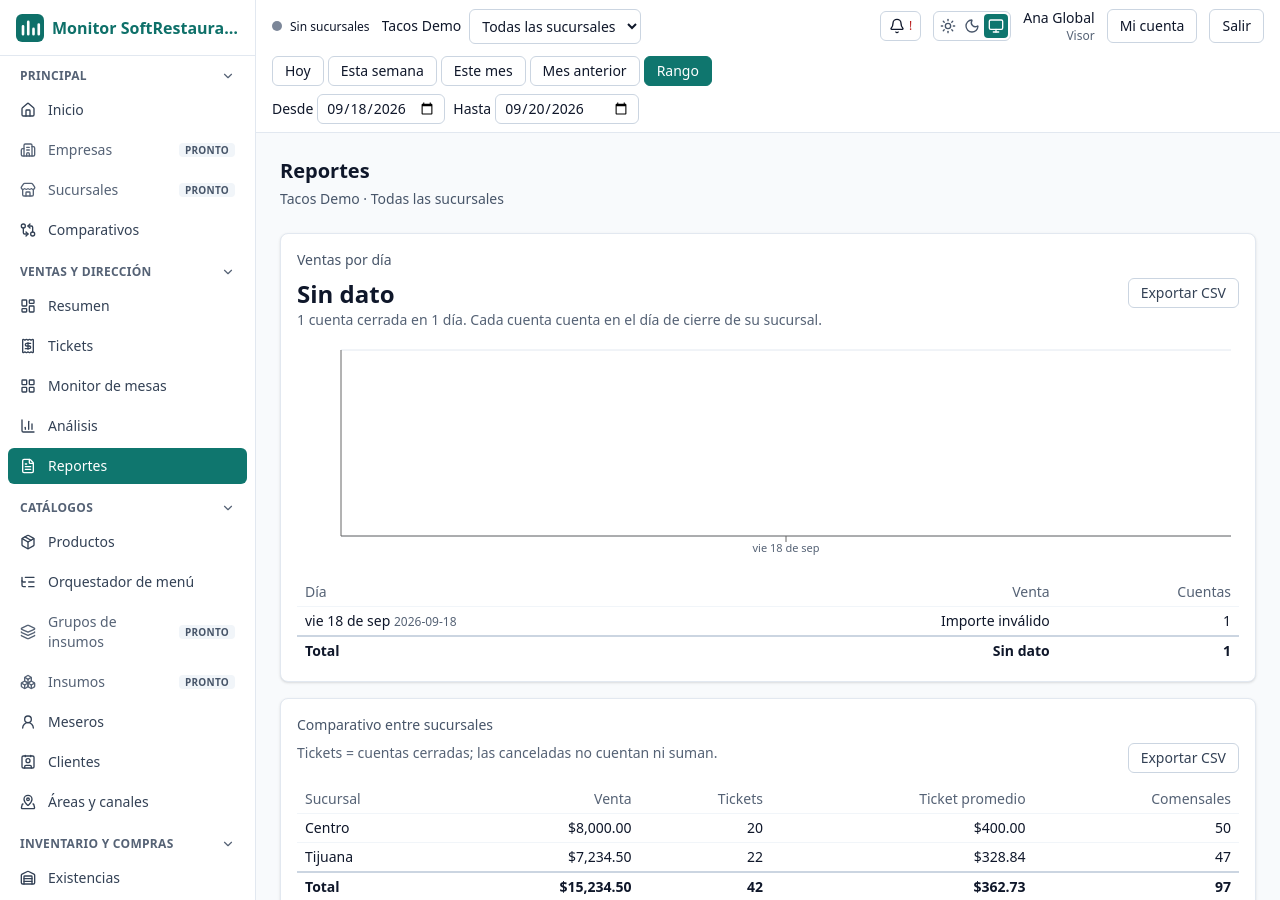
it: export CSV por reporte › un importe ilegible: avisa y no descarga nada
This screenshot has width=1280, height=900.
Check: the text "Sin dato" is shown, box [297,277,394,310]
Click the 1st button "Exportar CSV". click: coordinates (1183, 293)
box: [1128,278,1239,308]
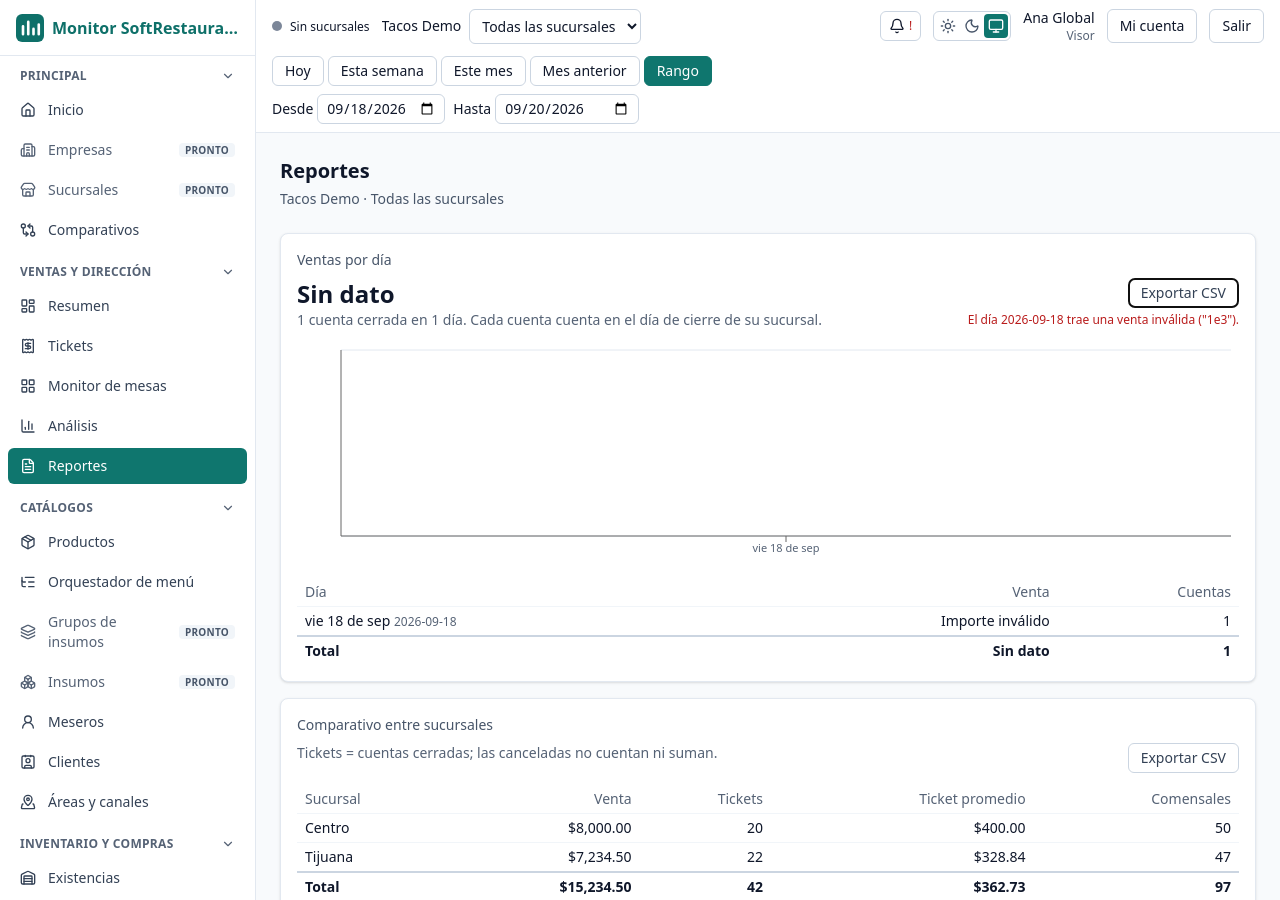
Check: the message shows "venta inválida", box [968,311,1239,328]
